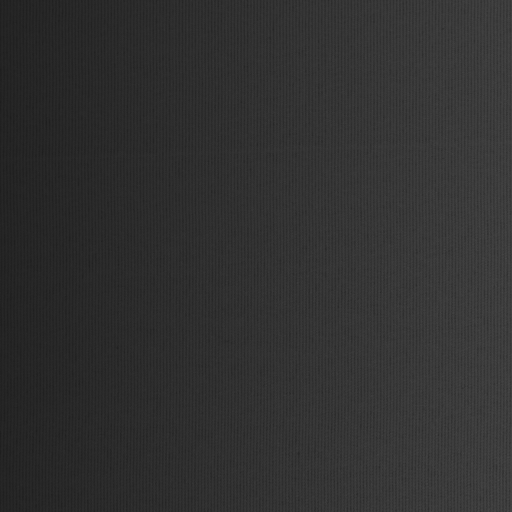defect: (1, 135, 512, 171)
